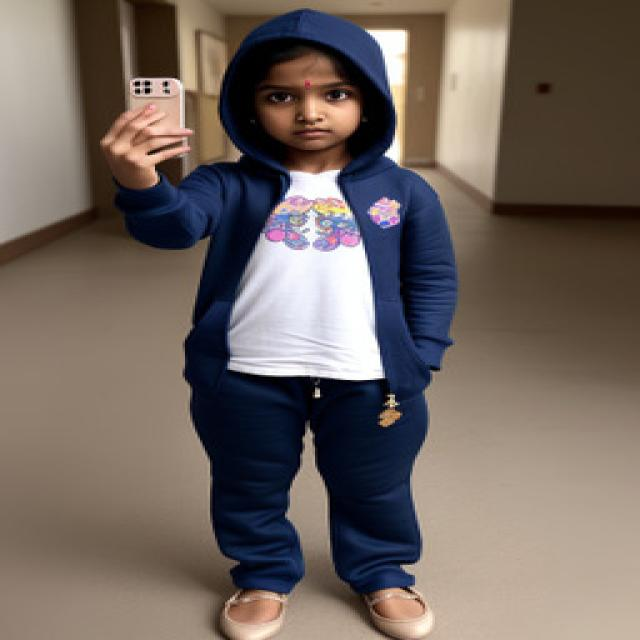Ai human 2: (107, 6, 469, 640)
